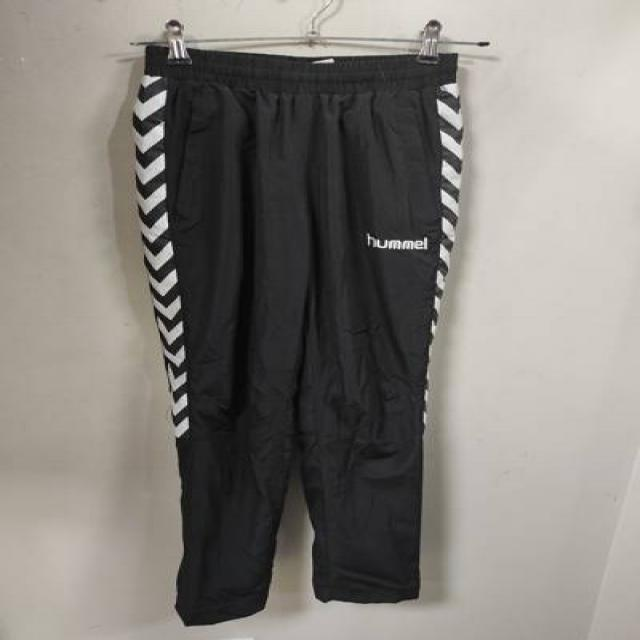Clothes -Biodegradable-: (132, 47, 463, 622)
